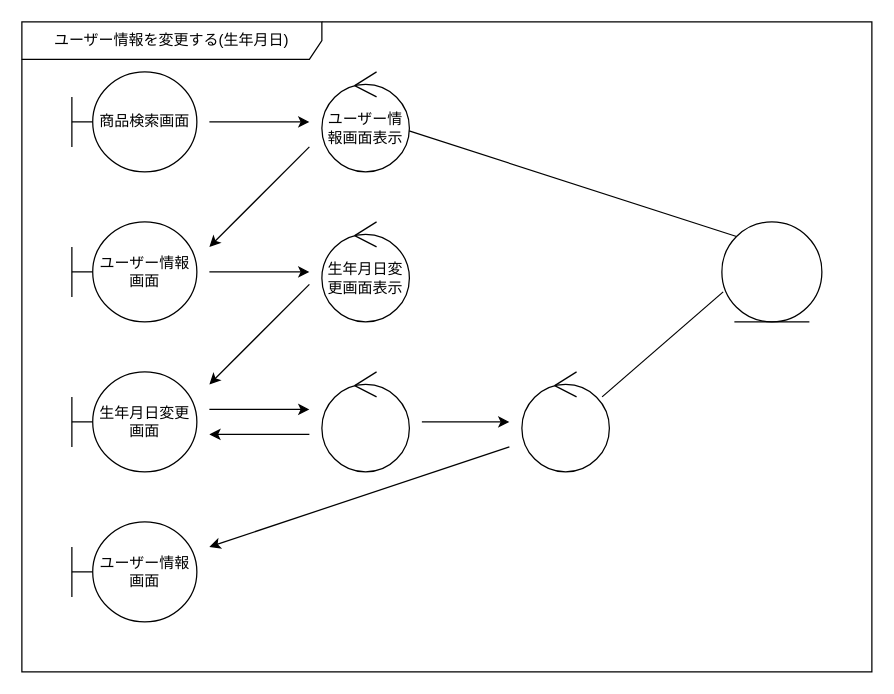
Some shapes in this 894 by 694 pixel diagram are drawn without their labels. The centre of each missing label's shape, as x and y in pixels:
バリデーション: (365,421)
ユーザー情報: (771,271)
生年月日更新: (565,421)
